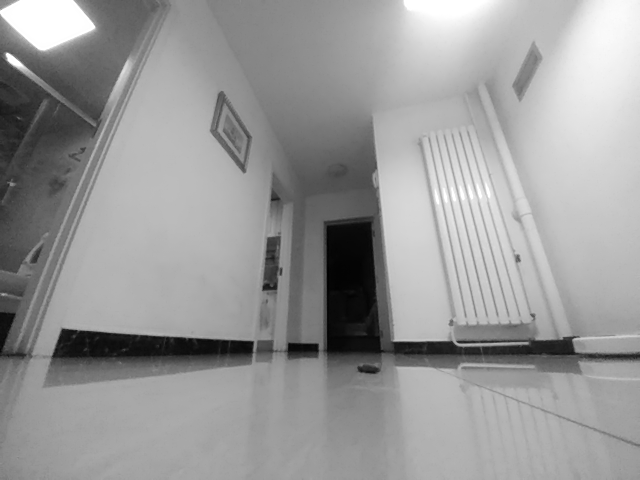pet feces: (356, 363, 383, 375)
